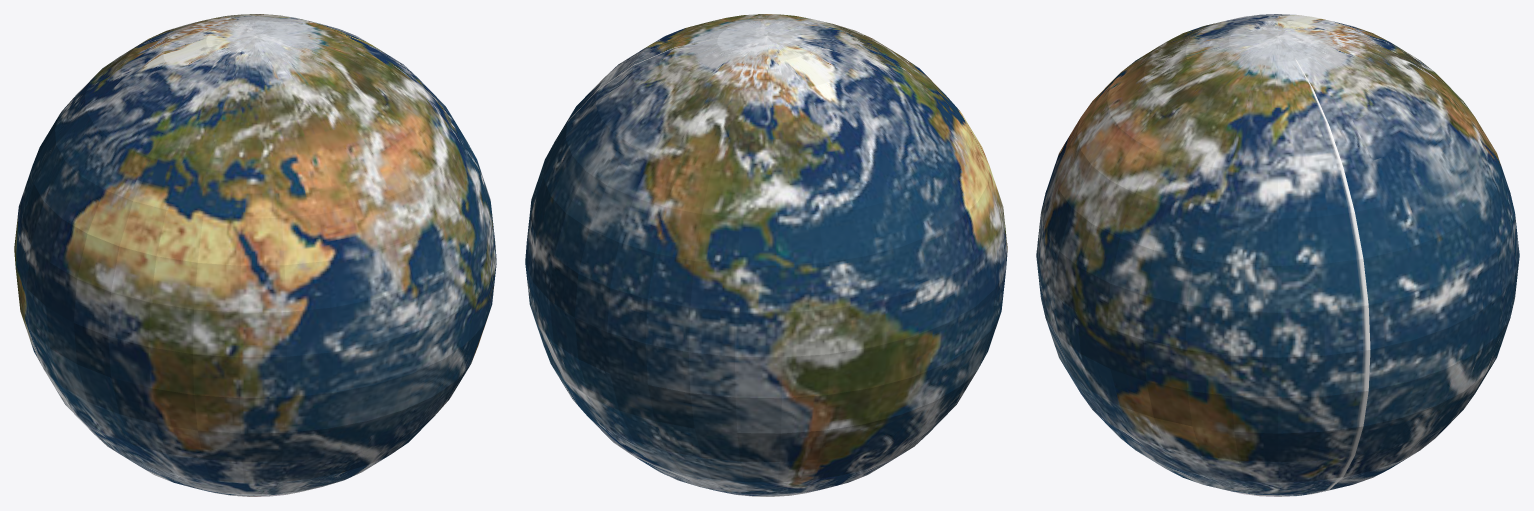
File: Earth.obj
3 renders of one model, left to right at view 1: azimuth 30°, elevation 25°; view 2: azimuth 150°, elevation 25°; view 3: azimuth 270°, elevation 25°, orthographic.
Visible parts, largest first — view 1: Sphere; view 2: Sphere; view 3: Sphere.
Part boxes in pixels (x1,y1,x2,y2): Sphere: (14,14,496,496); Sphere: (525,14,1007,496); Sphere: (1036,14,1519,496).
Size of the model in its own units: 50 by 50 by 50.
Materials: 1 (1 with a texture image).
